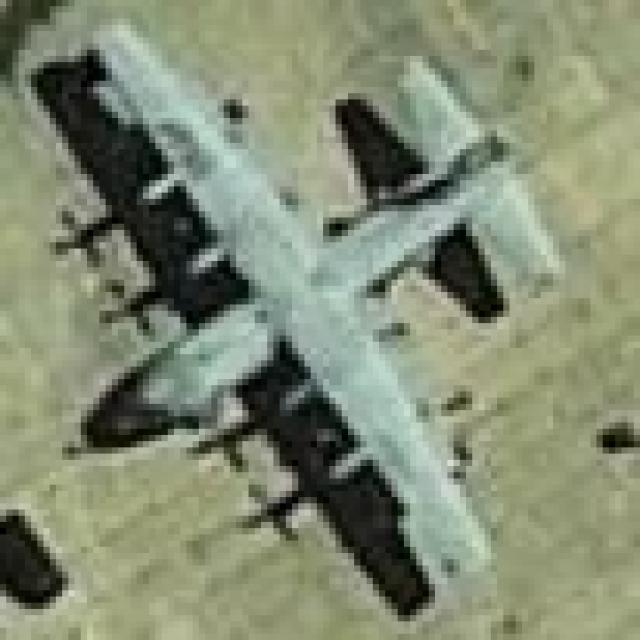C-130_TopDown: (30, 0, 566, 621)
